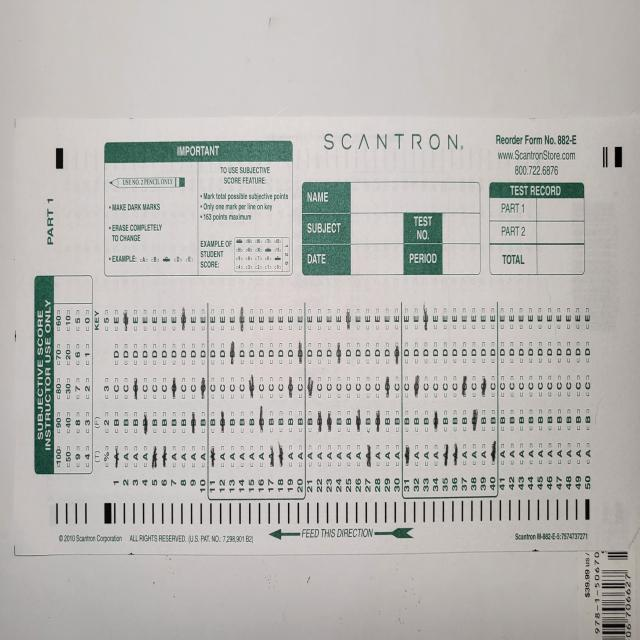scantron: (14, 113, 640, 557)
